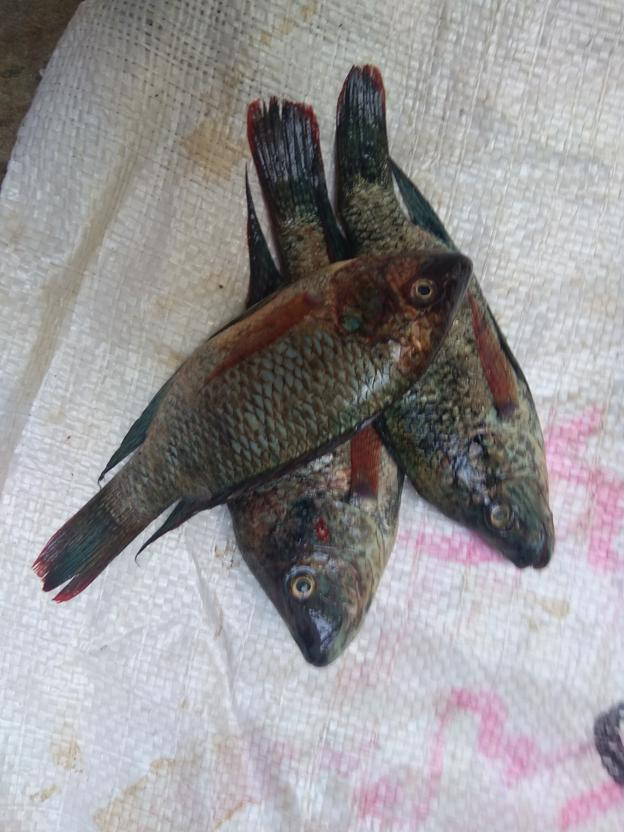Fish head: (230, 500, 401, 668), (441, 427, 560, 570), (331, 249, 474, 368)
Fish tail: (31, 474, 146, 605), (244, 94, 334, 227), (336, 64, 387, 193)
